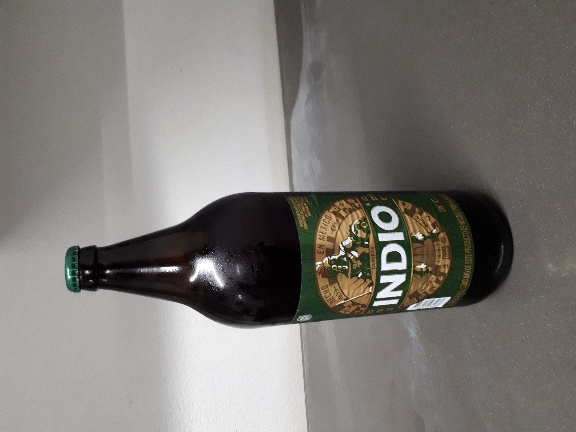IB: (213, 139, 329, 229)
